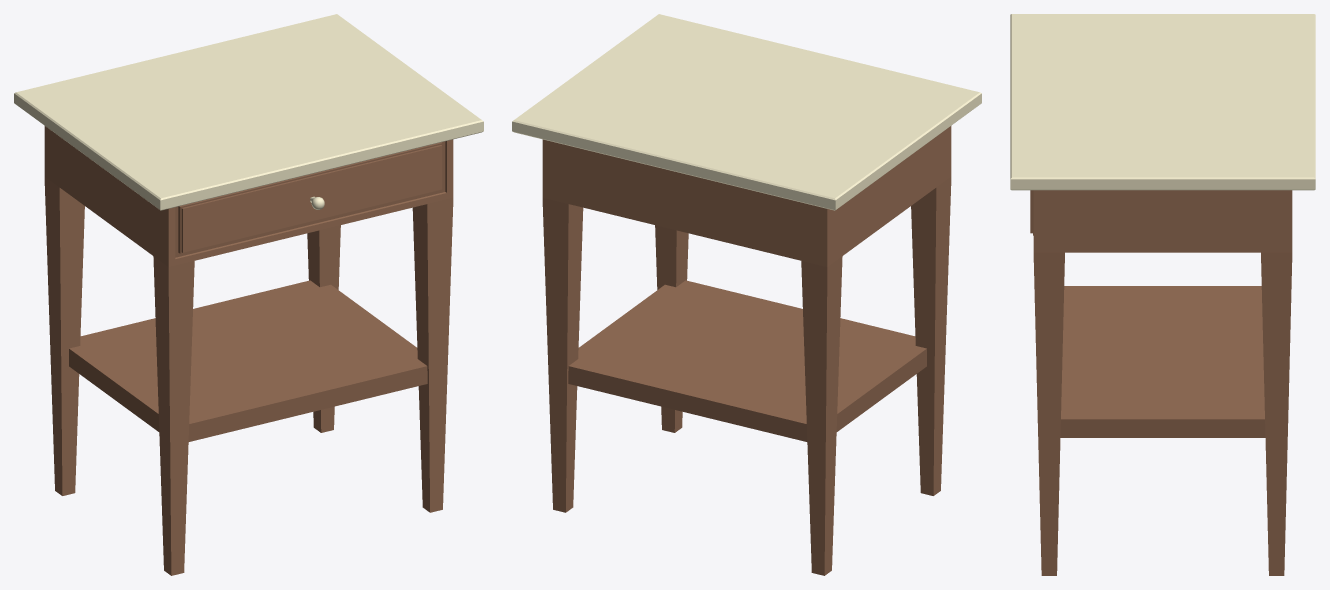
File: BedsideTable.glb
The picture shows the model from 3 angles, left to right: view 1: azimuth 30°, elevation 25°; view 2: azimuth 150°, elevation 25°; view 3: azimuth 270°, elevation 25°; orthographic projection. The views are drawn at different scales.
Parts seen in each view (by area): view 1: Bedside Table; view 2: Bedside Table; view 3: Bedside Table.
Part boxes in pixels (<box>): Bedside Table: <box>14,14,483,575</box>; Bedside Table: <box>512,14,981,575</box>; Bedside Table: <box>1010,14,1315,575</box>.
Bounding box in the file's own units: 0.6924 × 0.8062 × 0.5424.
Materials: 1 (1 with a texture image).
